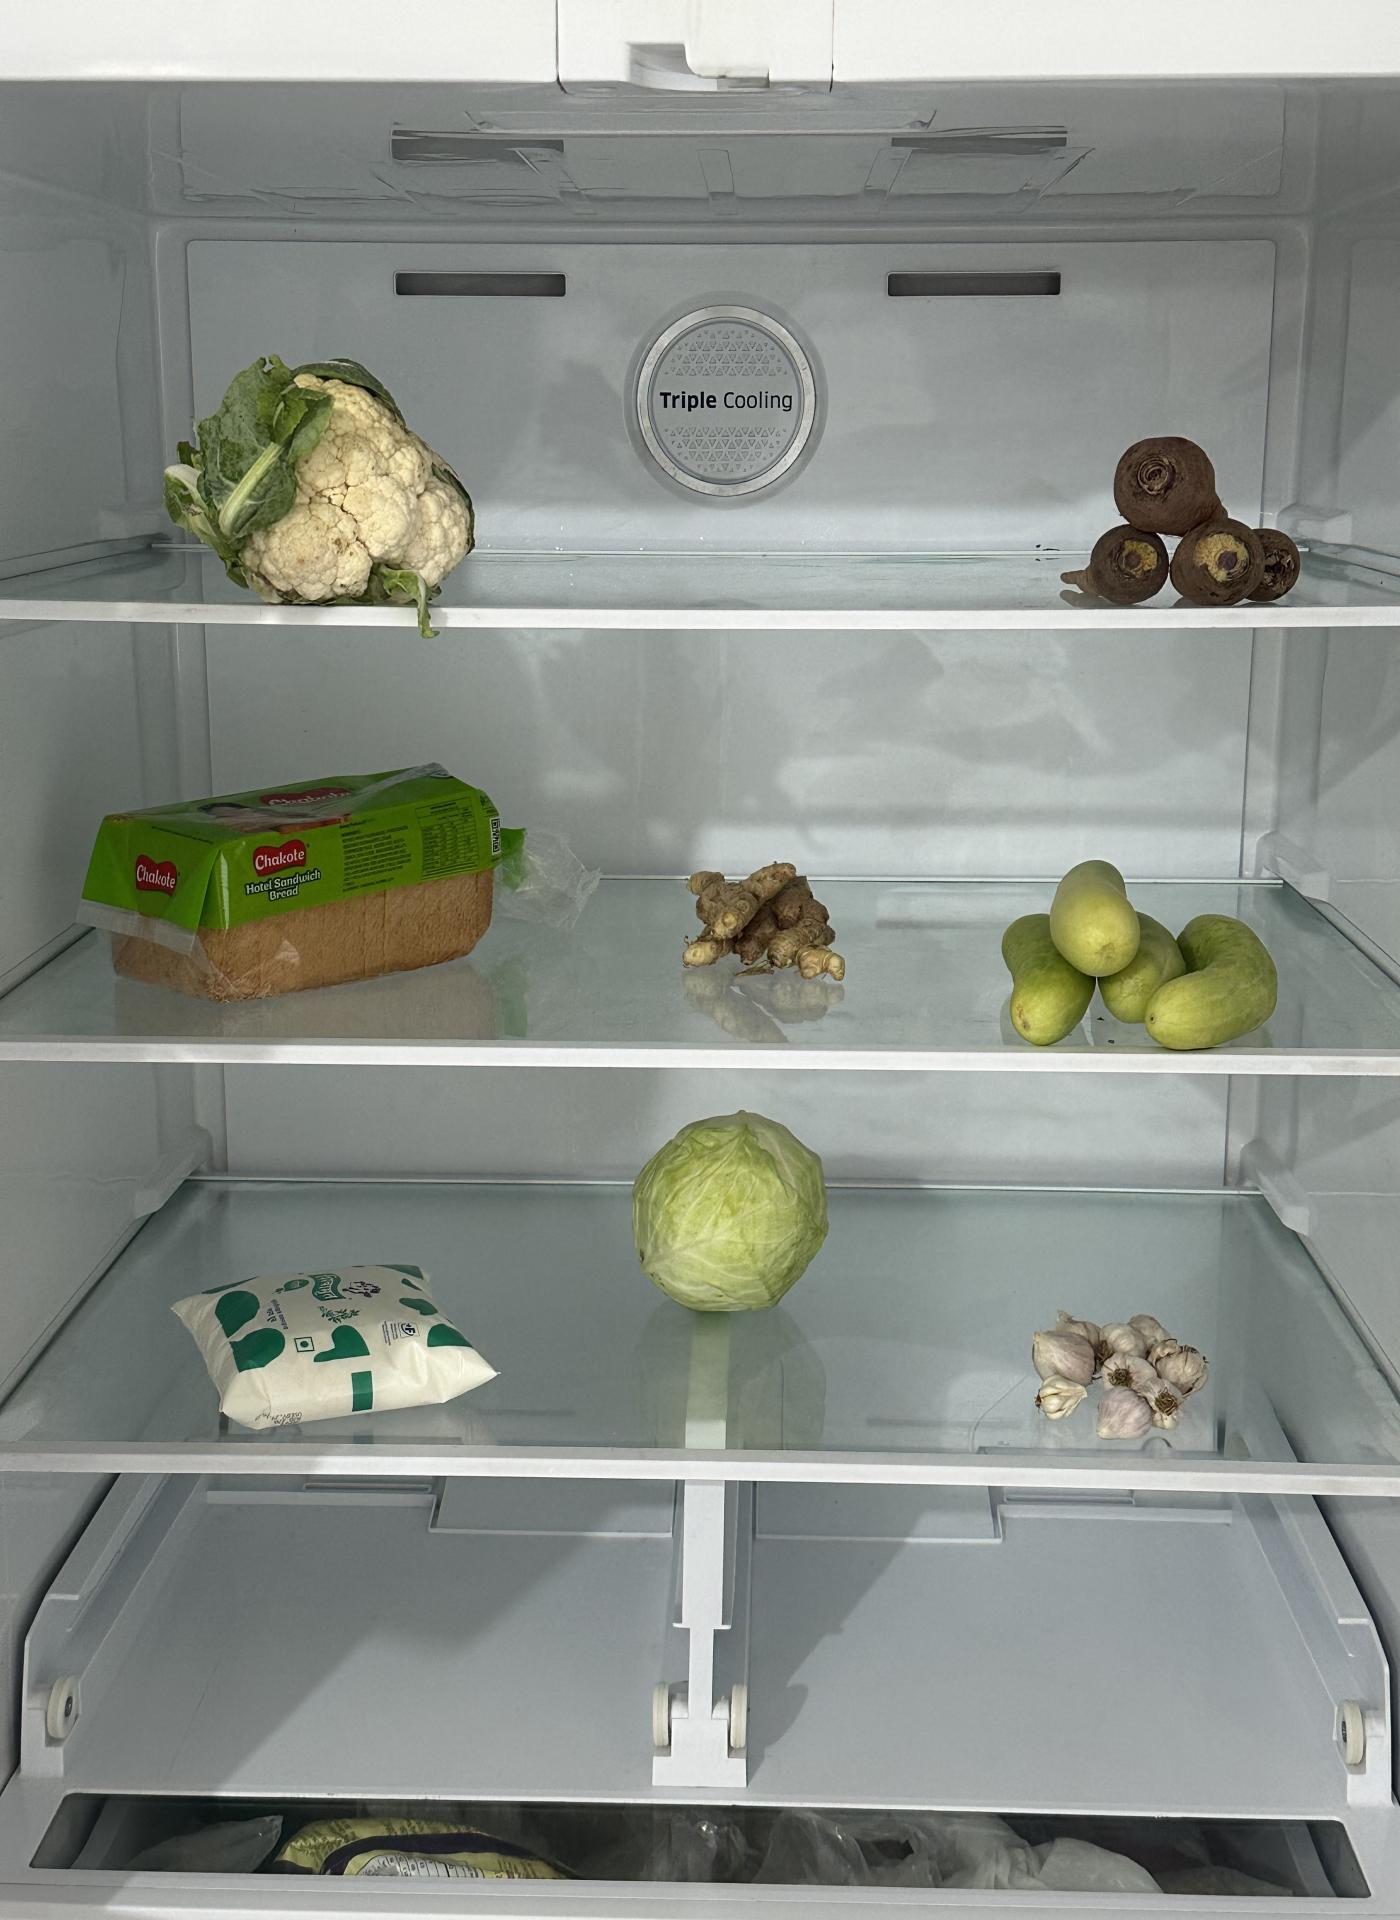bread: (76, 754, 522, 1005)
cabbage: (631, 1103, 830, 1321)
carrots: (1057, 429, 1305, 607)
cauliflower: (163, 352, 483, 601)
cucumber: (997, 859, 1282, 1051)
garlic: (1026, 1306, 1203, 1441)
ginger: (678, 860, 842, 996)
milk: (174, 1254, 495, 1437)
